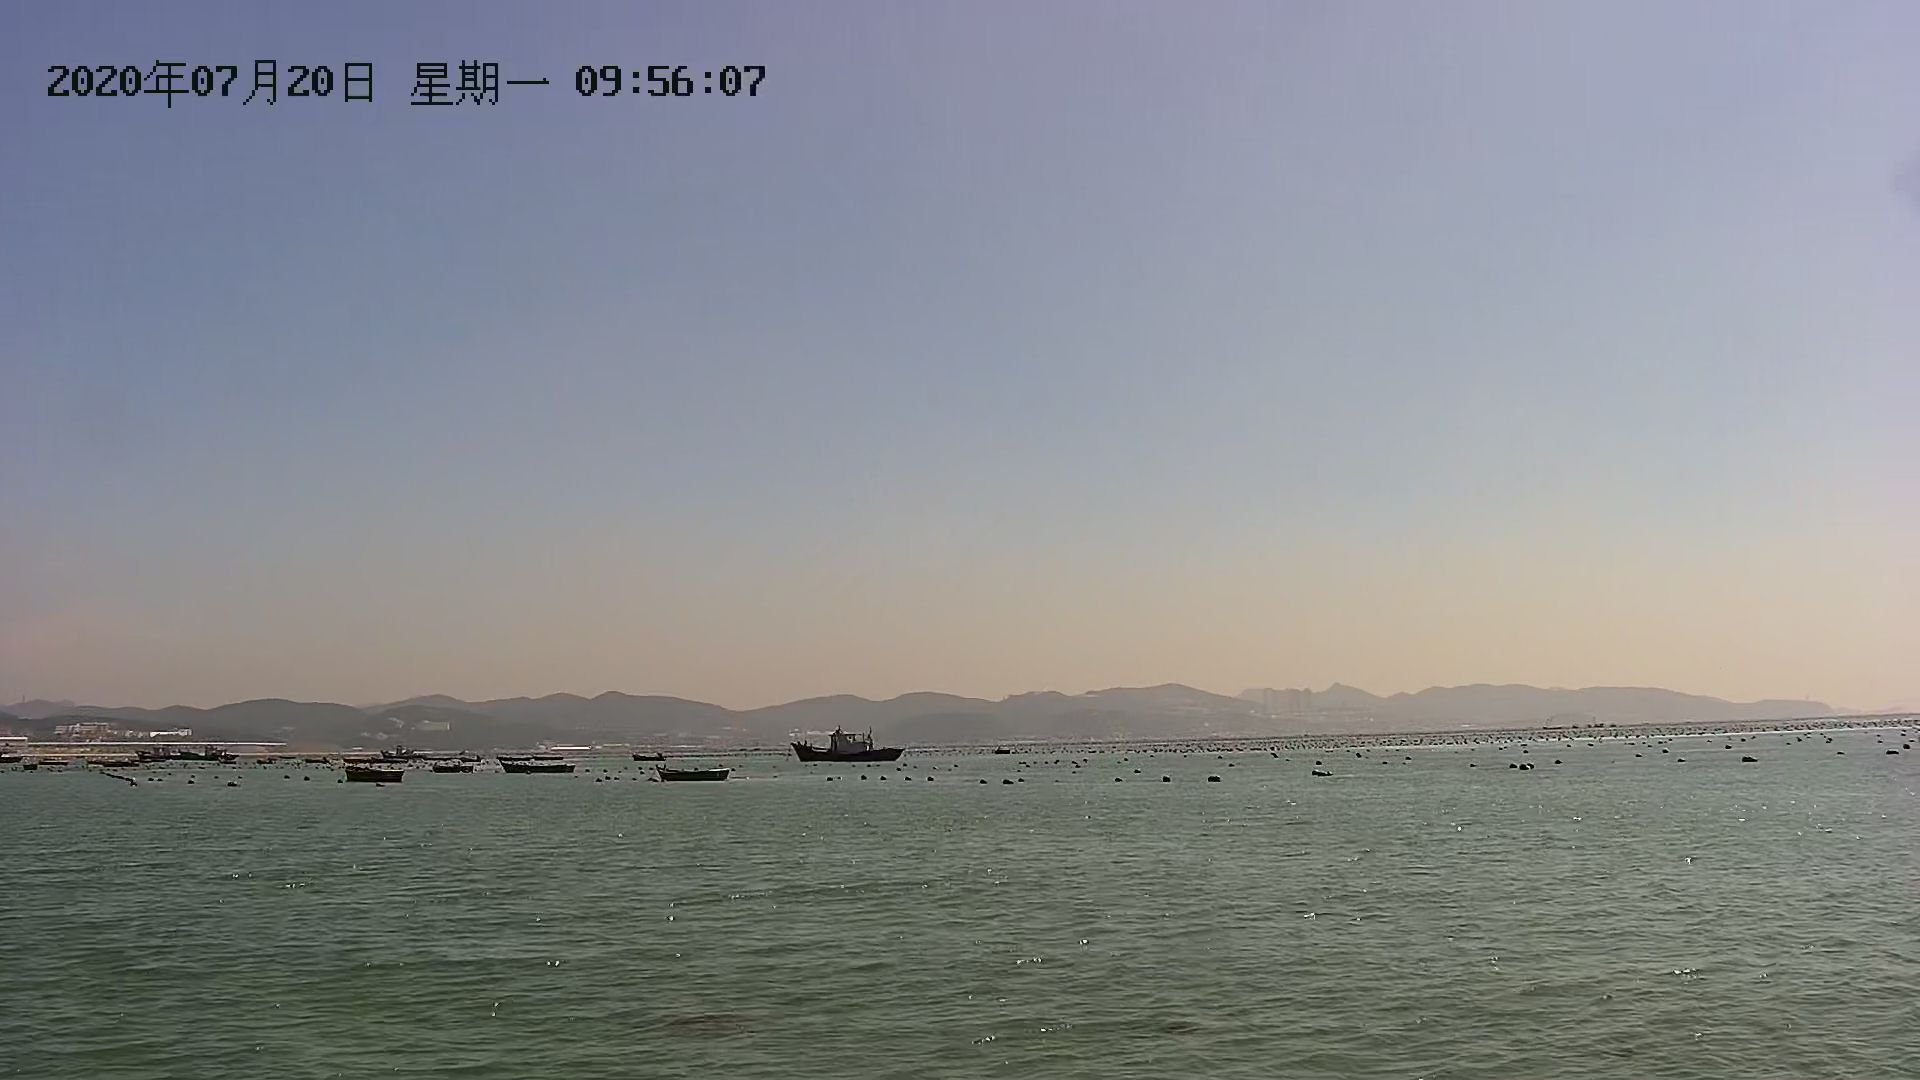boat: (647, 760, 733, 783), (339, 761, 405, 789), (502, 757, 578, 775)
ship: (783, 724, 919, 765)
